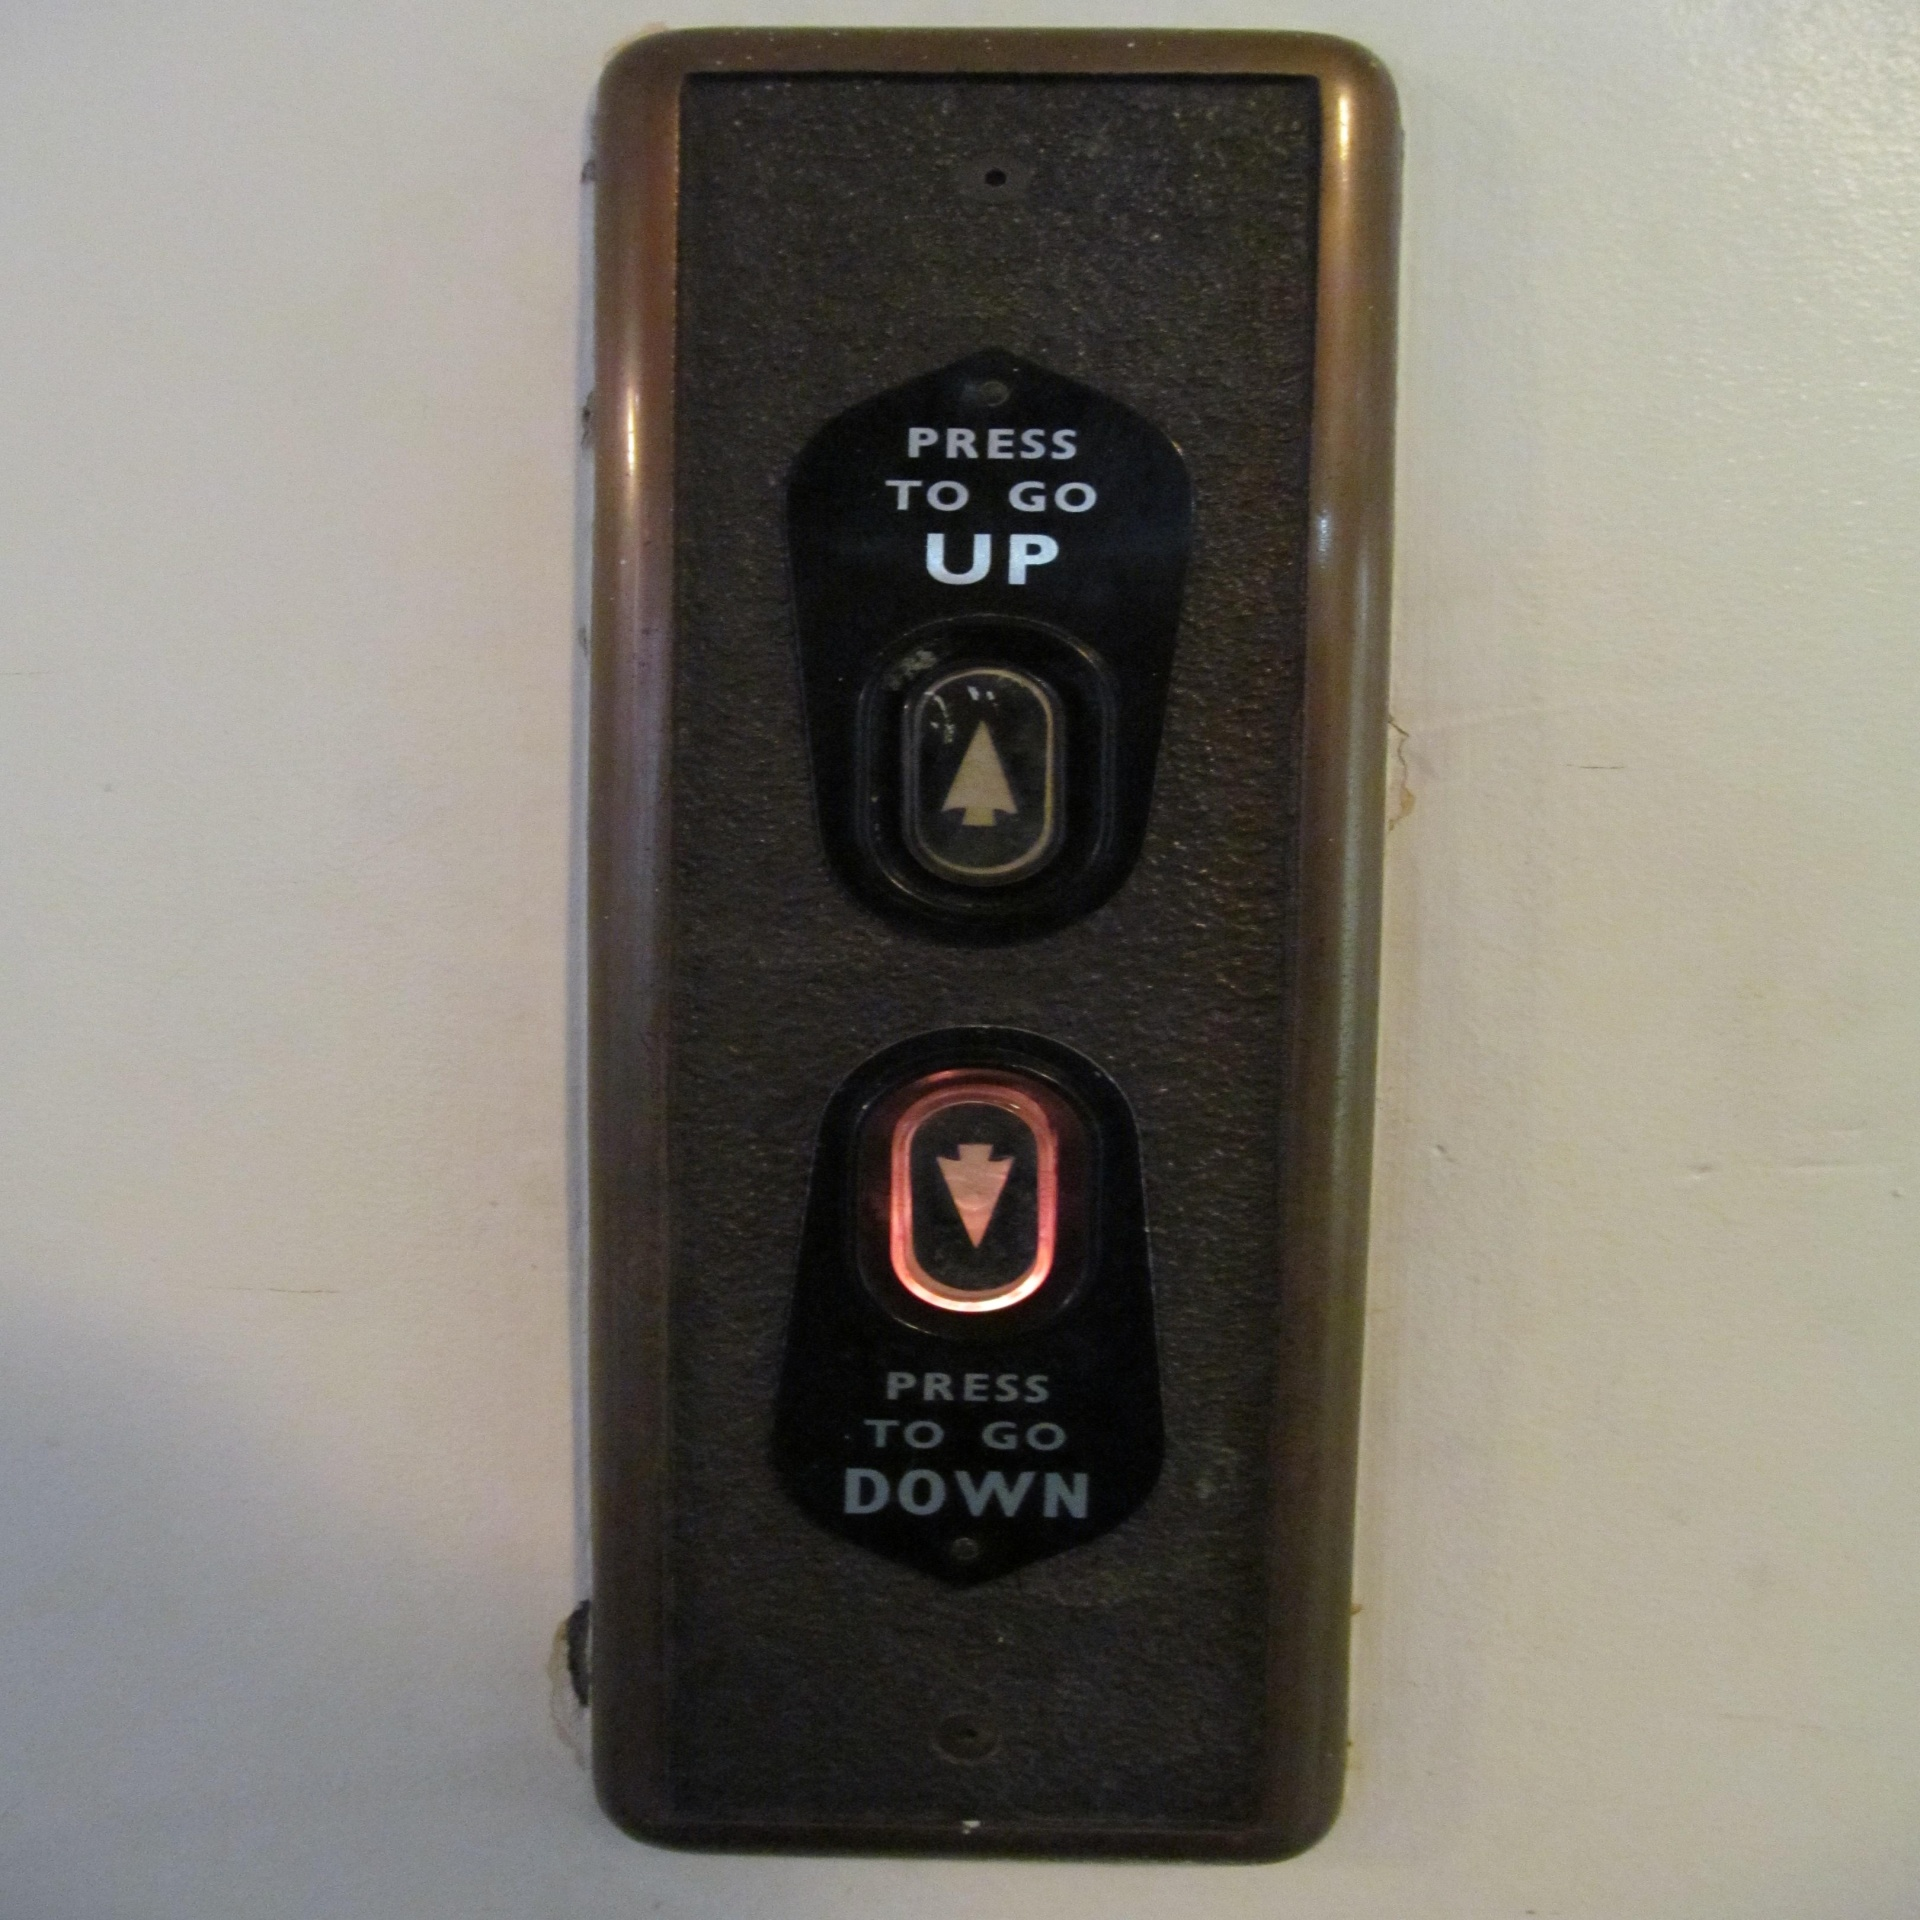down: (835, 1046, 1106, 1354)
up: (849, 601, 1124, 925)
